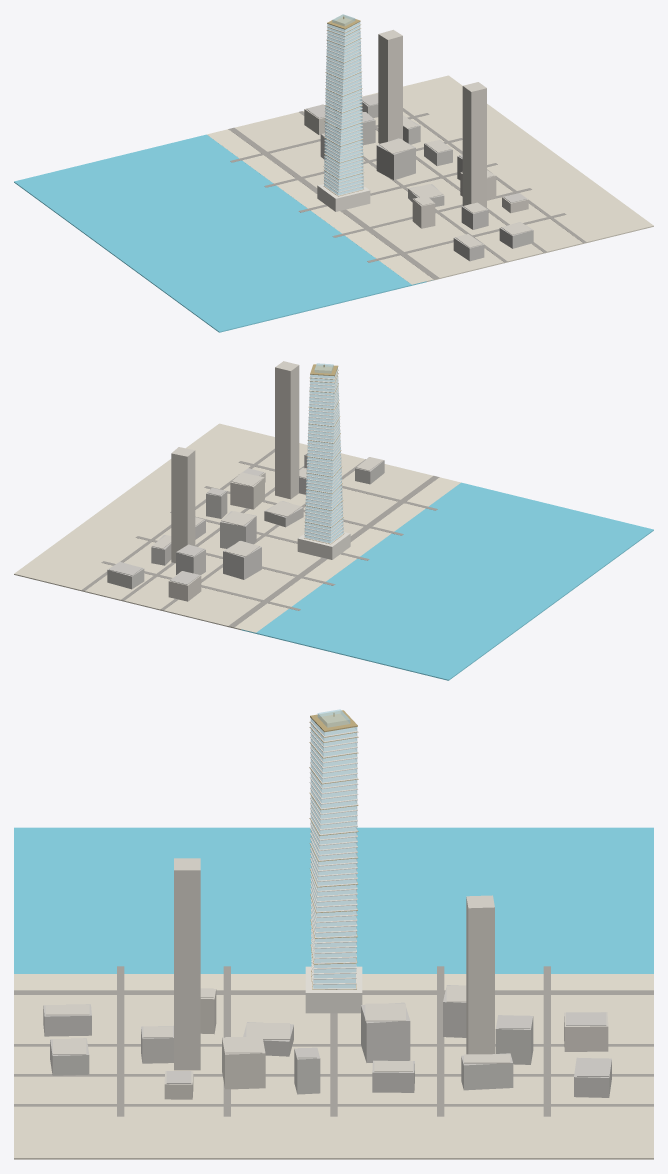
Rendered from duo.glb.
3 views of the same model, one above another, from view 1: azimuth 30°, elevation 25°; view 2: azimuth 150°, elevation 25°; view 3: azimuth 270°, elevation 25° (orthographic). The views are drawn at different scales.
Visible parts, largest first — view 1: scene; view 2: scene; view 3: scene.
Part boxes in pixels (x1,y1,x2,y2): scene: (14, 14, 653, 332); scene: (14, 361, 653, 680); scene: (14, 709, 653, 1159).
Bounding box in the file's own units: 440 × 179 × 360.
